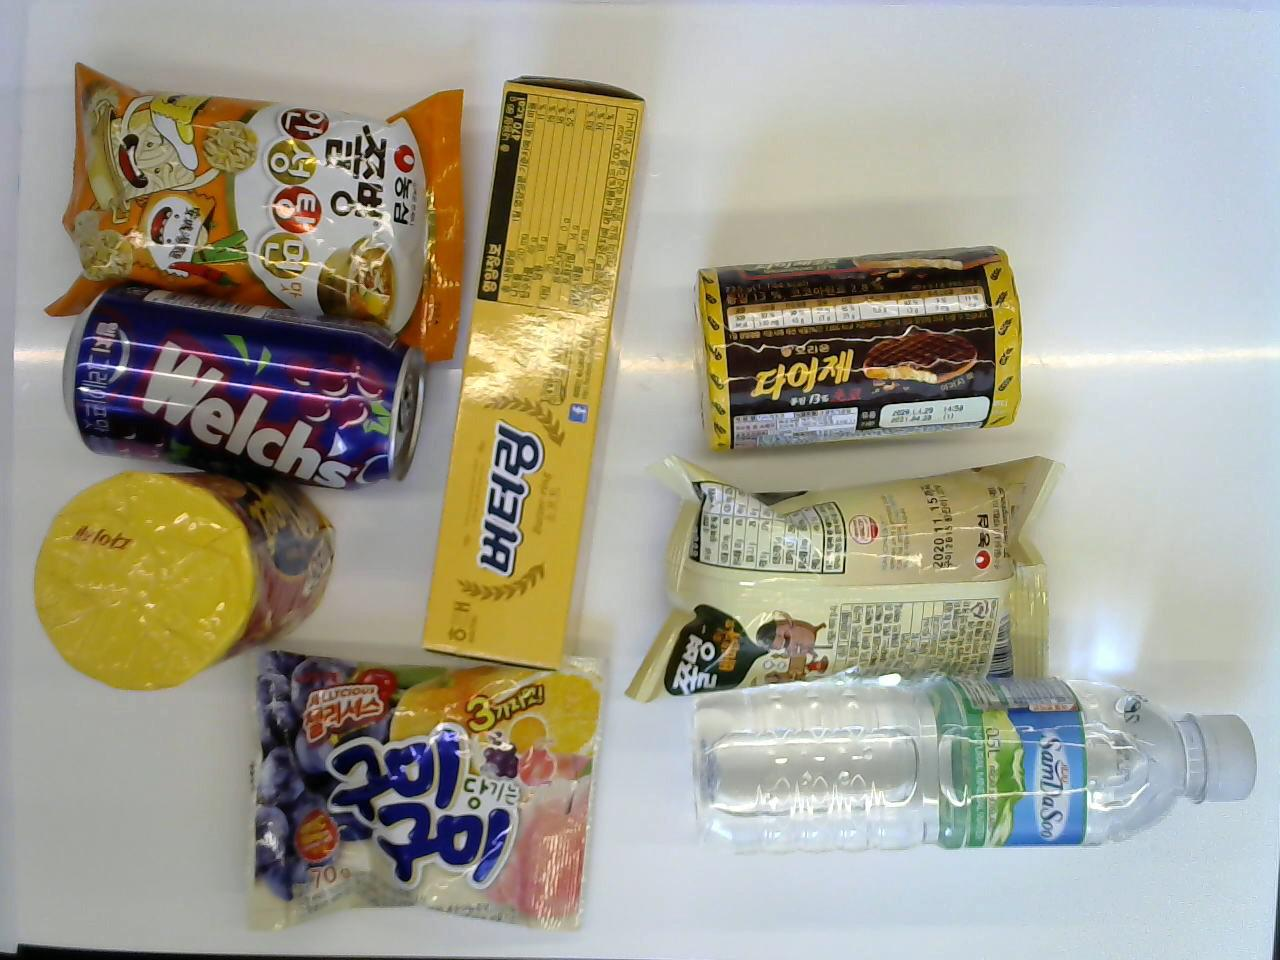buttering: (421, 73, 649, 676)
diget_choco: (683, 238, 1018, 450)
diget_ori: (32, 468, 339, 703)
gumi_gumi: (250, 645, 604, 939)
jjolbyung_noodle: (45, 54, 459, 365)
jjolbyung_ori: (624, 447, 1061, 707)
samdasu: (694, 677, 1262, 857)
welchs: (65, 287, 427, 492)
